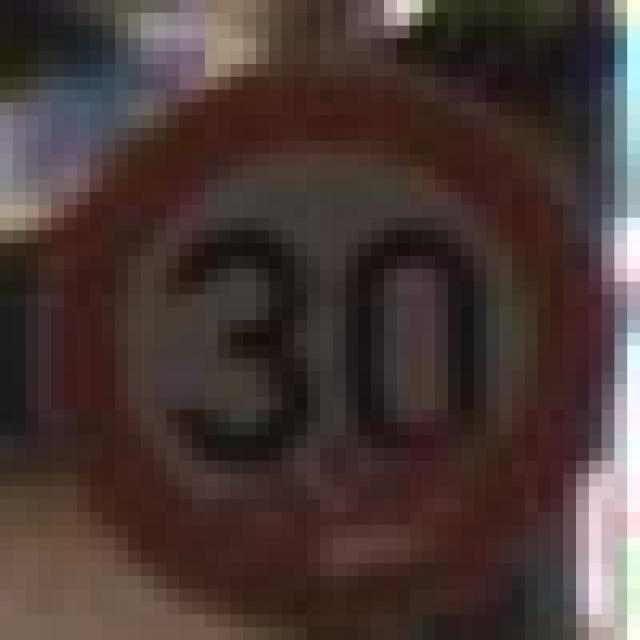SPEED_LIMIT_30: (51, 26, 614, 627)
